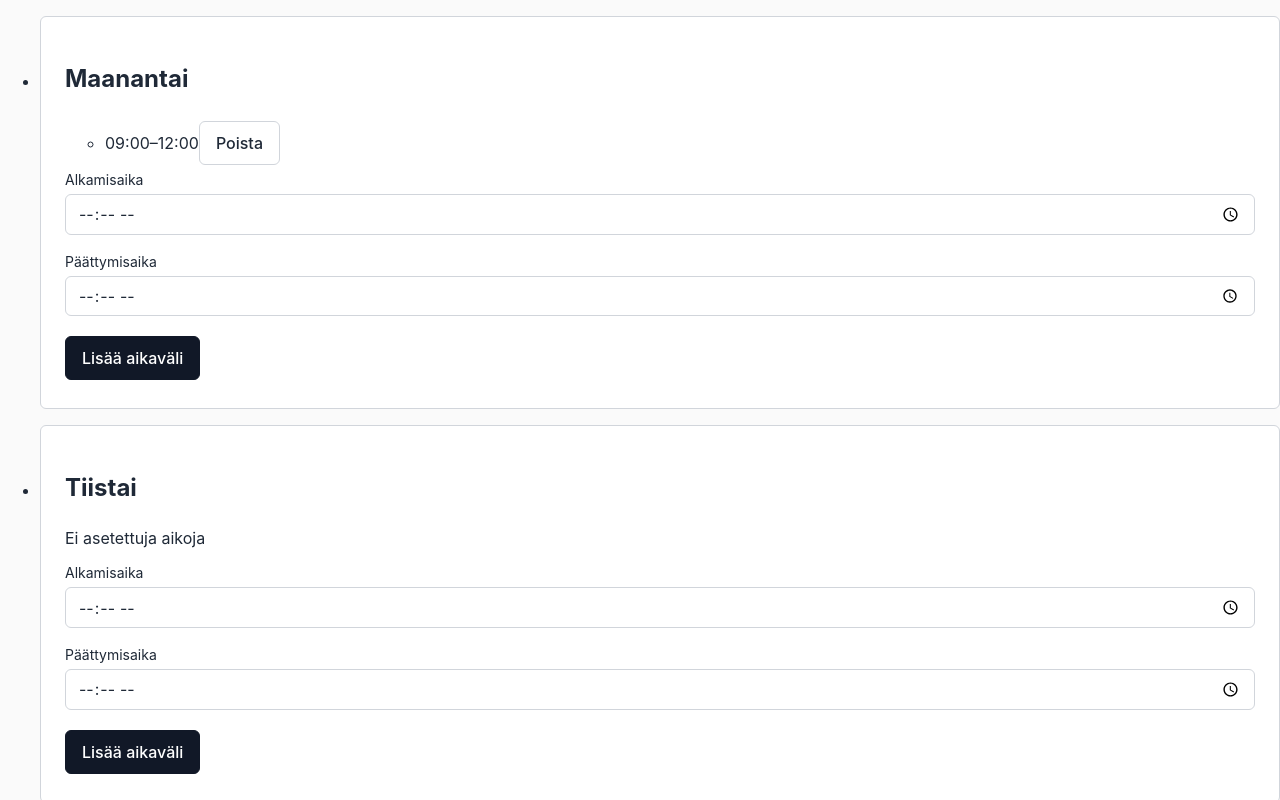
Test: AdminAvailability › deletes a time range, removing the row without a full refetch
The image size is (1280, 800).
Check: the list item with test id "rule-rule-1" is shown, box [105,121,280,165]
Click the button "Poista" at [239, 143], box [199,121,280,165]
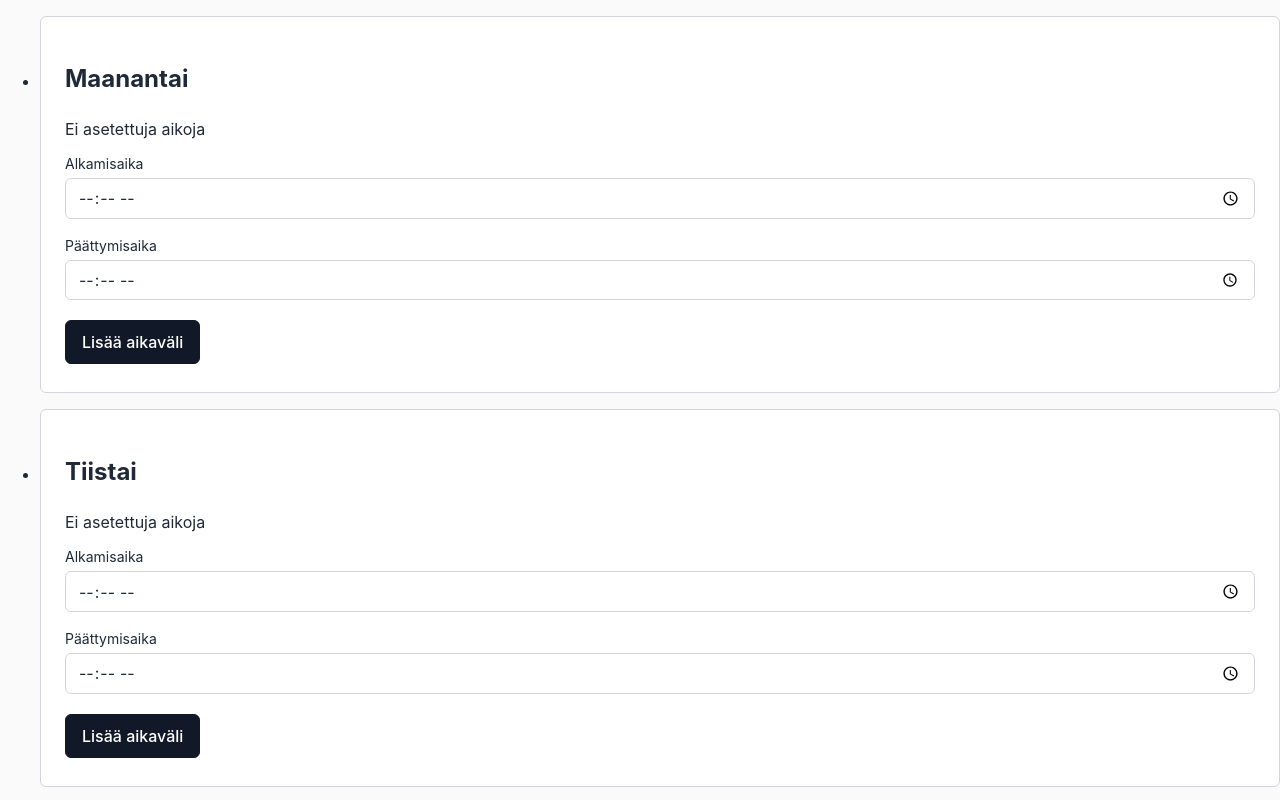
Check: the list item with test id "rule-rule-1" is gone
